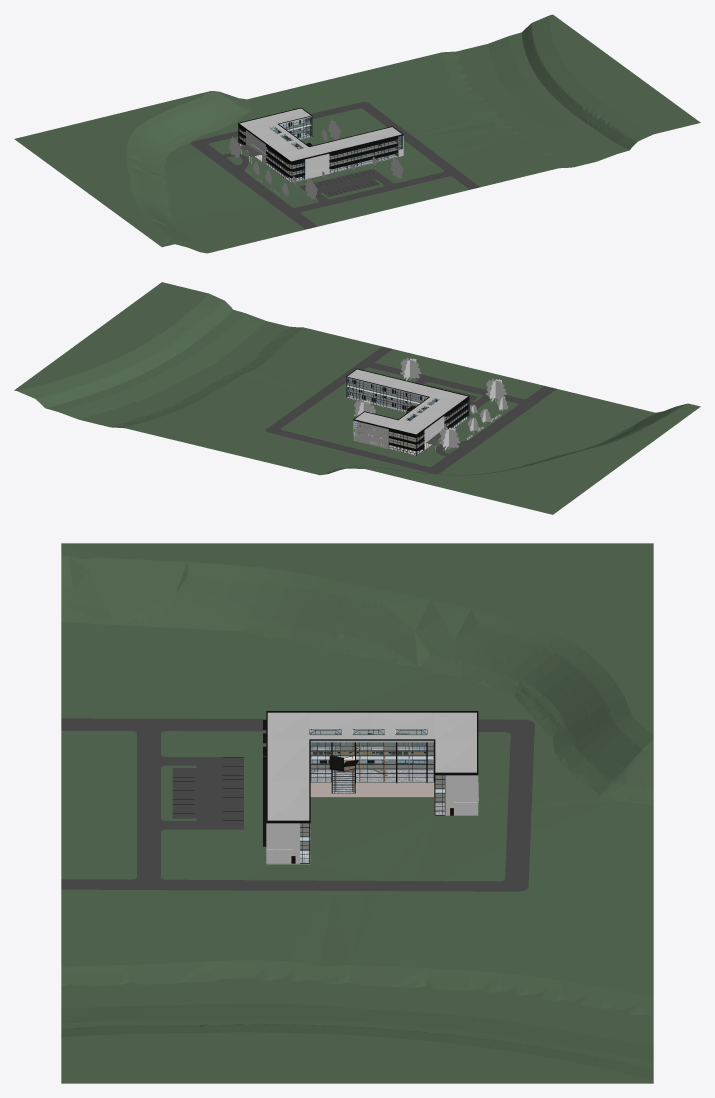
Rendered from result.gltf.
3 renders of one model, top to bottom at view 1: azimuth 30°, elevation 25°; view 2: azimuth 150°, elevation 25°; view 3: azimuth 270°, elevation 25°, orthographic. The views are drawn at different scales.
Visible parts, largest first — view 1: nodes[7228], nodes[7229], nodes[7224], nodes[7220], nodes[7217], nodes[7230], nodes[7221], nodes[7218]; view 2: nodes[7228], nodes[7229], nodes[7224], nodes[7220], nodes[7217], nodes[7221], nodes[7230], nodes[7218]; view 3: nodes[7228], nodes[7229], nodes[7224], nodes[7218], nodes[7220], nodes[7217], nodes[7221], nodes[7230].
Boxes of the visible parts, box(x1,y1,x2,y2) form: nodes[7228]: box(14, 14, 700, 253); nodes[7229]: box(191, 102, 479, 229); nodes[7224]: box(239, 108, 401, 161); nodes[7220]: box(246, 116, 403, 179); nodes[7217]: box(239, 119, 397, 175); nodes[7230]: box(238, 107, 403, 161); nodes[7221]: box(266, 119, 391, 171); nodes[7218]: box(240, 133, 399, 182); nodes[7228]: box(14, 282, 700, 514); nodes[7229]: box(265, 346, 556, 473); nodes[7224]: box(347, 369, 467, 434); nodes[7220]: box(346, 377, 444, 449); nodes[7217]: box(346, 380, 468, 448); nodes[7221]: box(347, 380, 459, 445); nodes[7230]: box(346, 368, 469, 434); nodes[7218]: box(346, 394, 468, 455); nodes[7228]: box(61, 543, 653, 1083); nodes[7229]: box(61, 718, 534, 891); nodes[7224]: box(267, 712, 476, 820); nodes[7218]: box(267, 760, 477, 863); nodes[7220]: box(266, 740, 478, 863); nodes[7217]: box(300, 742, 444, 850); nodes[7221]: box(300, 729, 444, 840); nodes[7230]: box(266, 711, 478, 821).
Size of the model in its own units: 319 by 14.31 by 152.
